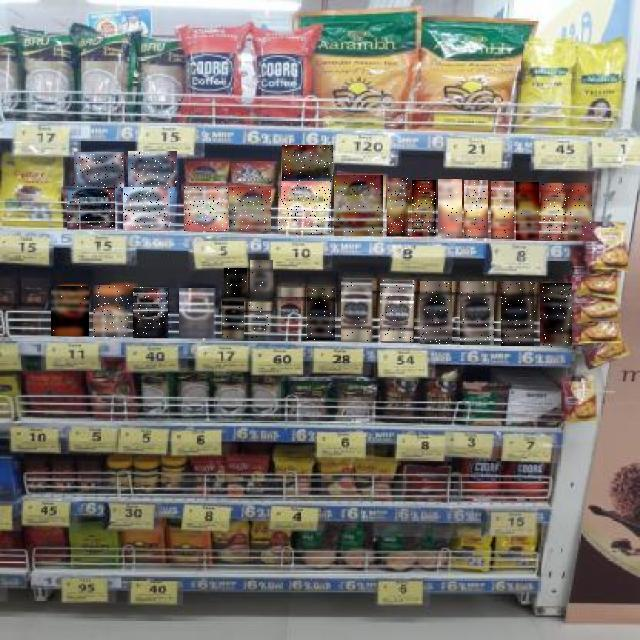Coffee: (334, 175, 383, 236), (278, 181, 331, 234), (342, 278, 376, 342), (460, 281, 494, 345), (502, 282, 536, 346), (381, 280, 415, 342), (67, 187, 115, 230), (124, 187, 172, 230), (540, 284, 572, 348), (420, 281, 452, 344), (184, 186, 228, 231), (134, 287, 172, 338), (51, 286, 89, 336), (180, 288, 218, 338), (94, 285, 130, 337), (229, 187, 271, 231), (282, 145, 333, 181), (74, 152, 124, 188), (128, 151, 177, 187), (307, 288, 335, 340), (438, 180, 462, 238), (464, 180, 488, 238), (542, 183, 566, 240), (568, 183, 592, 240), (412, 181, 436, 237), (491, 181, 514, 239), (516, 182, 539, 240), (388, 179, 410, 237), (250, 260, 273, 298), (222, 301, 244, 339), (248, 302, 270, 340), (224, 268, 247, 297)
